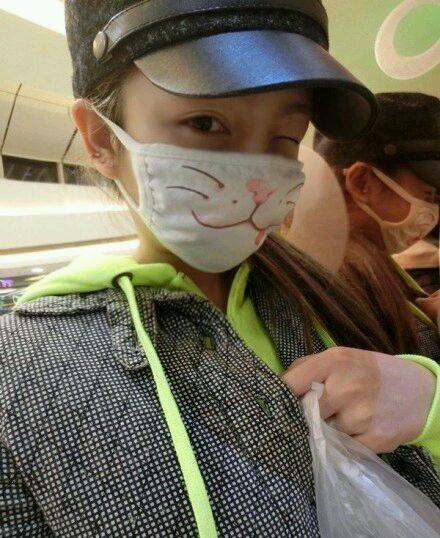OK: (117, 95, 306, 275), (358, 161, 440, 255)
